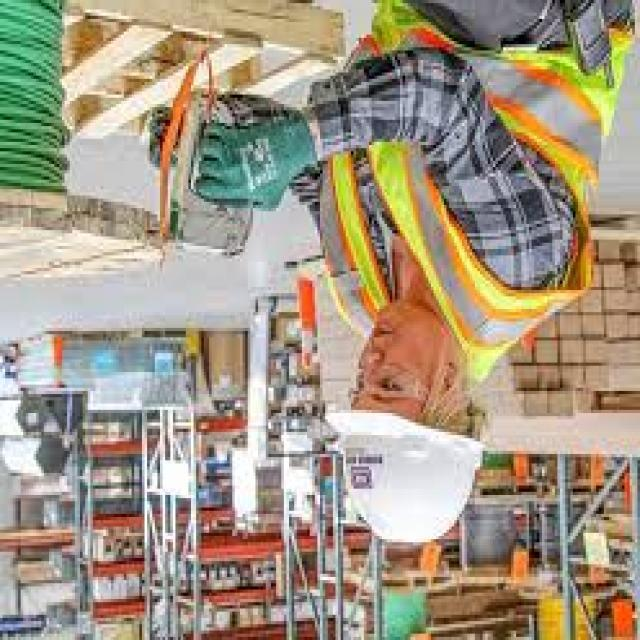safetyhelmet: (326, 349, 492, 553)
